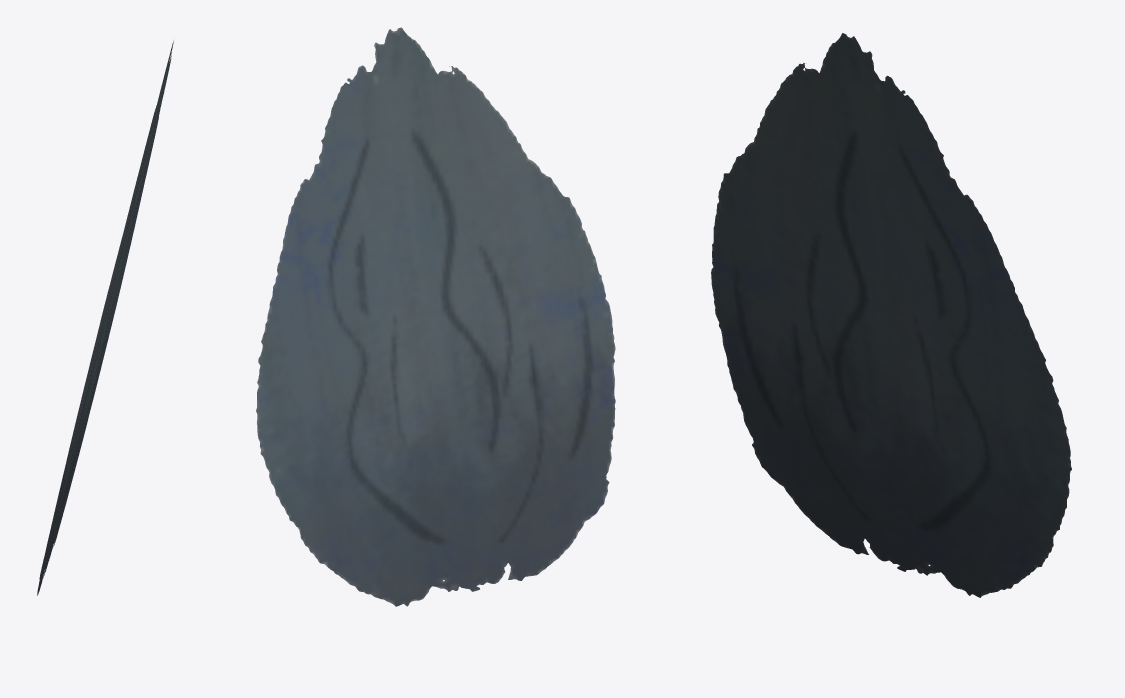
File: tree3_001.fbx
The picture shows the model from 3 angles, left to right: view 1: azimuth 30°, elevation 25°; view 2: azimuth 150°, elevation 25°; view 3: azimuth 270°, elevation 25°; orthographic projection. The views are drawn at different scales.
Visible parts, largest first — view 1: tree3.001; view 2: tree3.001; view 3: tree3.001.
Part boxes in pixels (box(x1,y1,x2,y2)): tree3.001: box(37, 40, 173, 595); tree3.001: box(256, 27, 615, 606); tree3.001: box(711, 33, 1071, 597).
Bounding box in the file's own units: 148 × 295 × 174.
